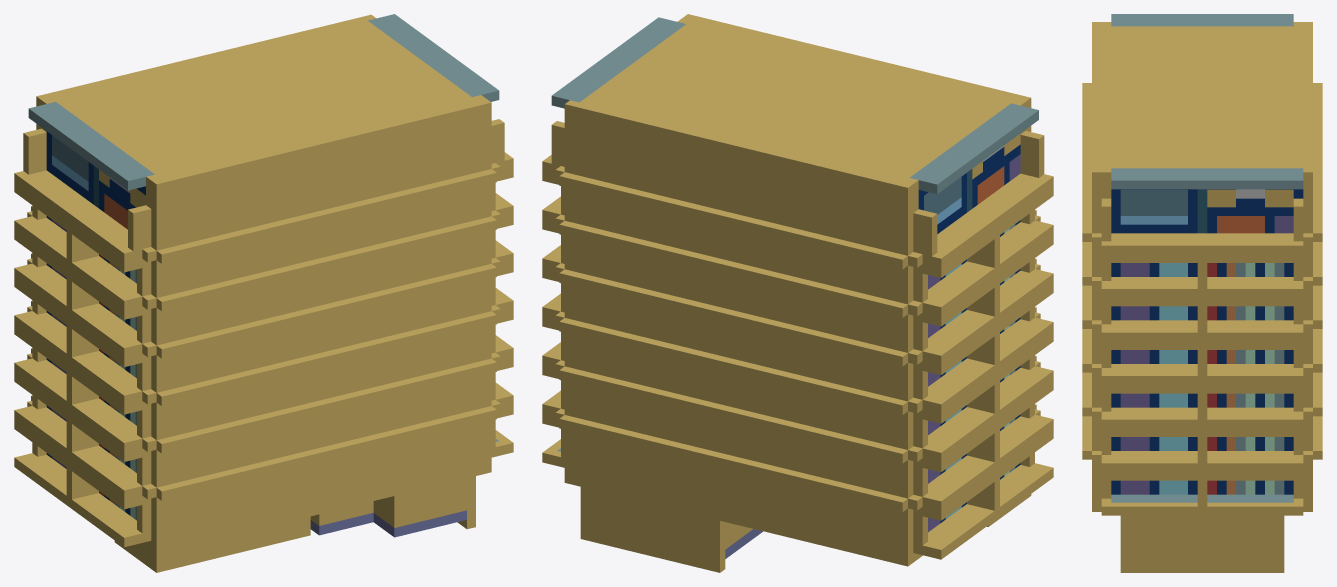
The model's file is Matsumoto2.fbx.
3 renders of one model, left to right at view 1: azimuth 30°, elevation 25°; view 2: azimuth 150°, elevation 25°; view 3: azimuth 270°, elevation 25°, orthographic. The views are drawn at different scales.
Parts seen in each view (by area): view 1: palette; view 2: palette; view 3: palette.
Part boxes in pixels (x1,y1,x2,y2): palette: (14,14,513,572); palette: (542,14,1053,572); palette: (1082,14,1322,572).
Bounding box in the file's own units: 43 × 46 × 25.
1 material, 1 textured.
